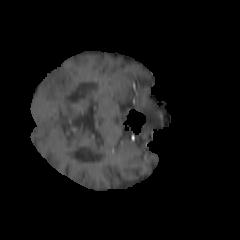glioma: (41, 66, 79, 102)
